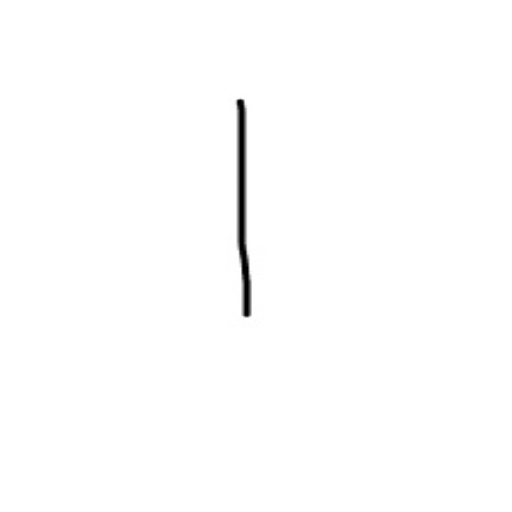line: (222, 88, 278, 331)
